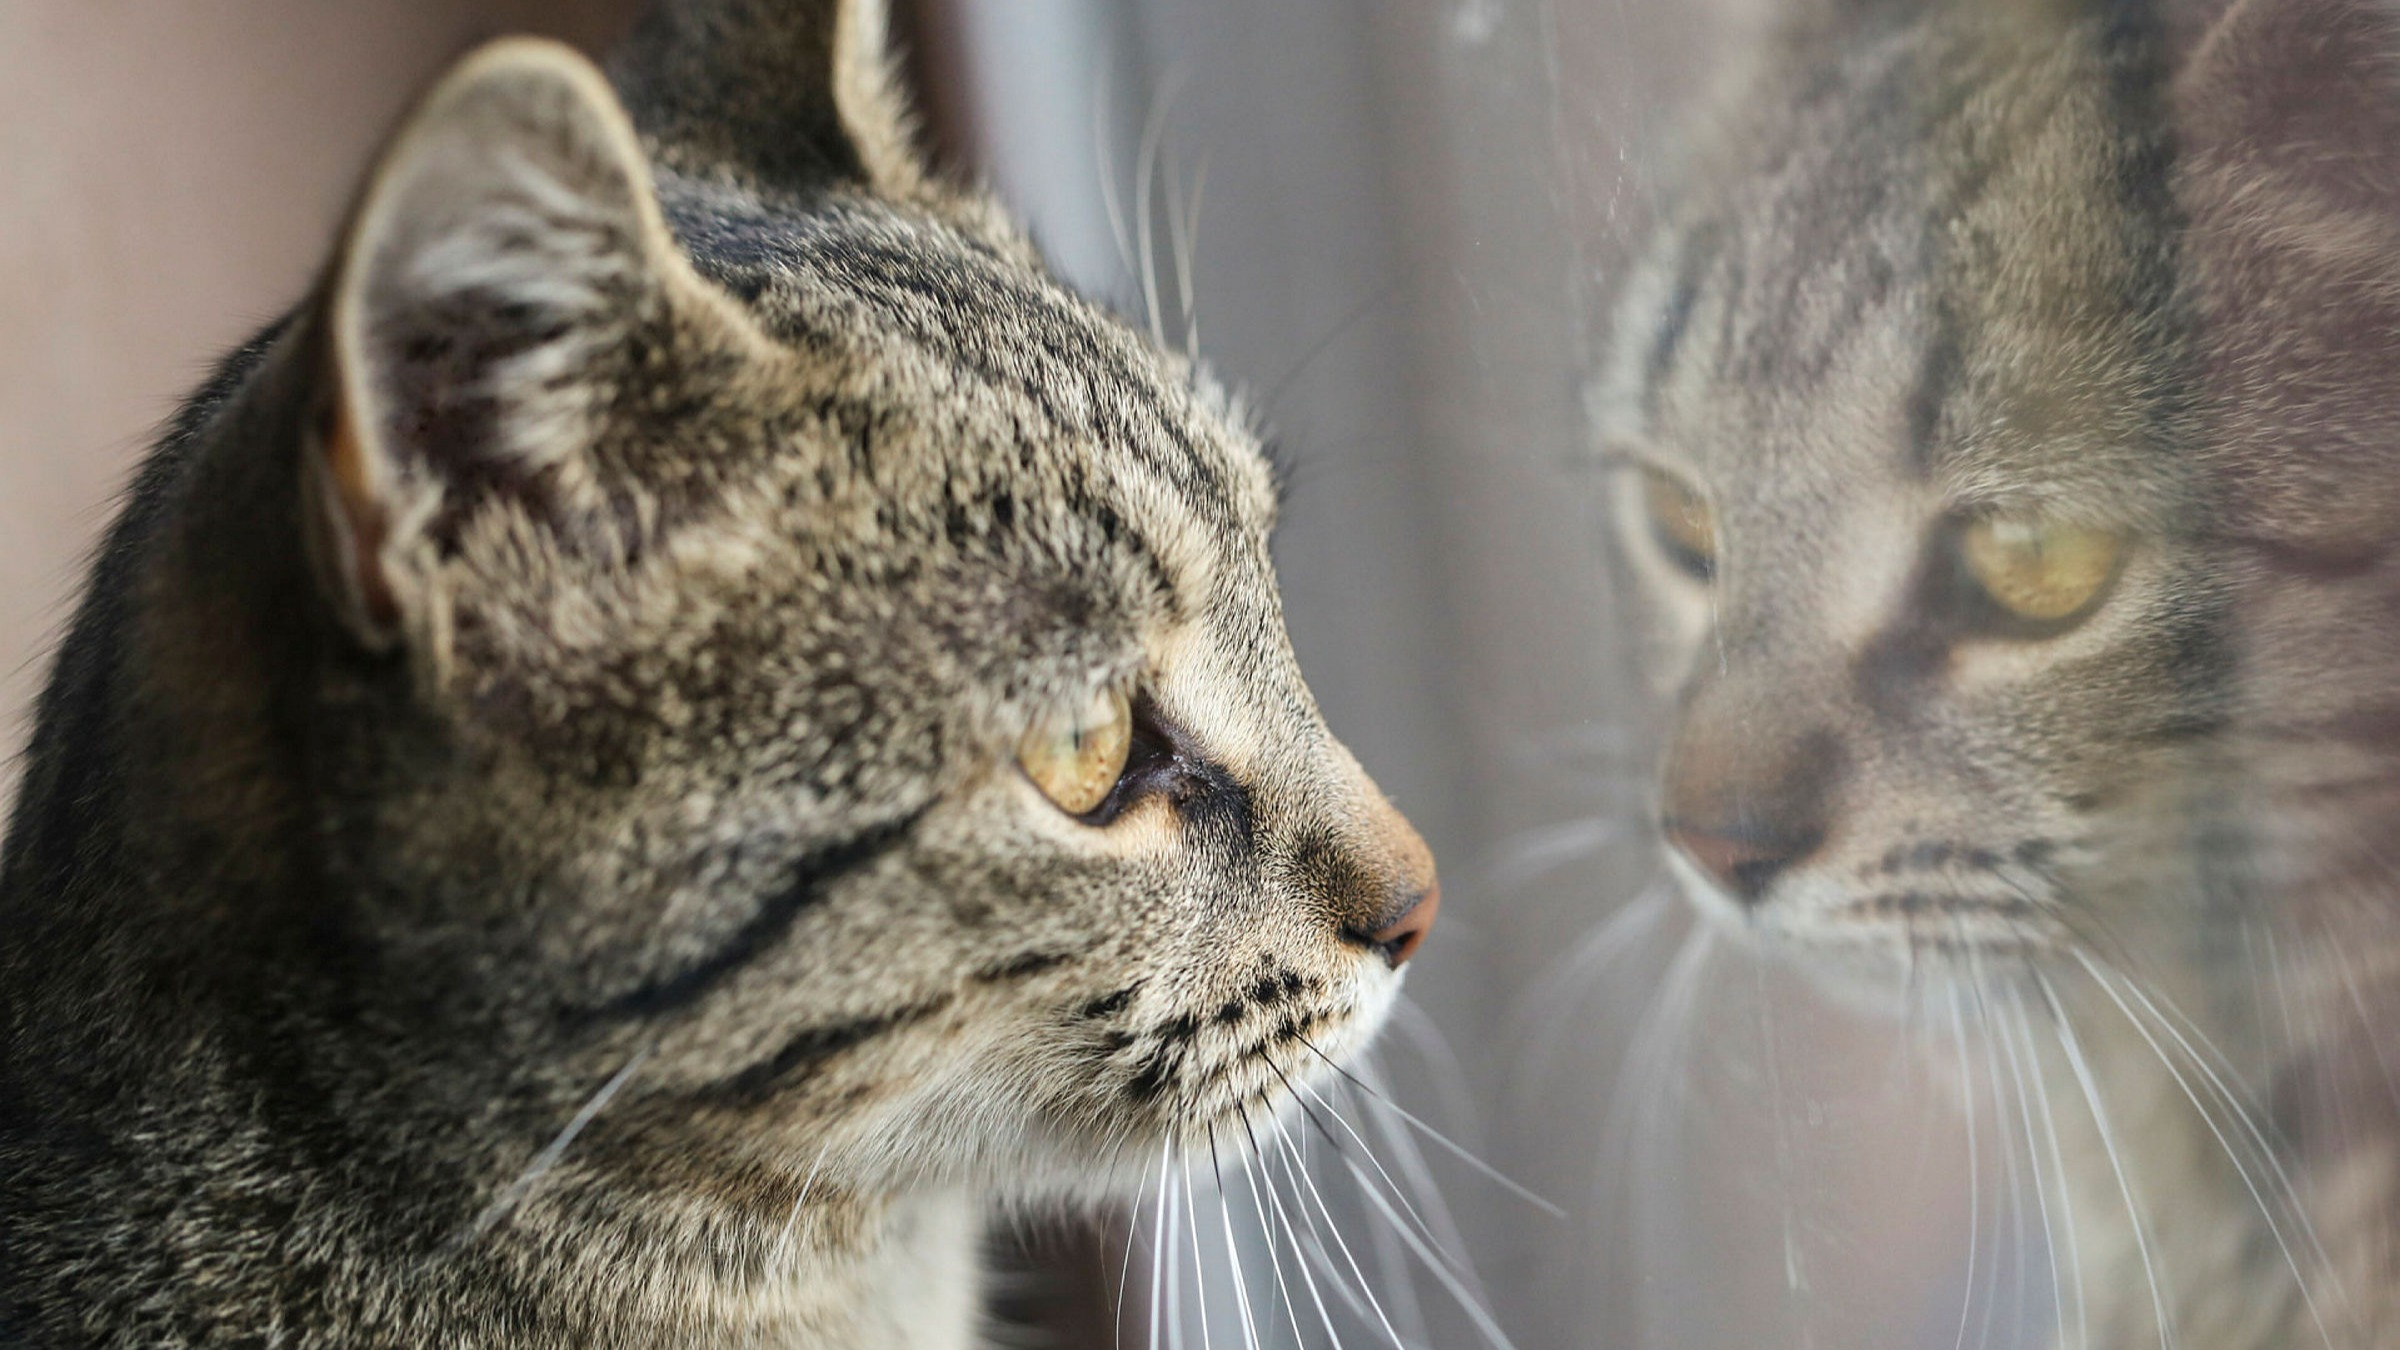cat: (279, 12, 1666, 1269)
